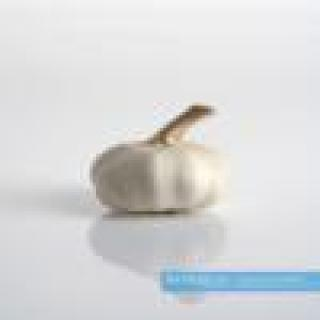Bawang Putih: (84, 94, 244, 222)
